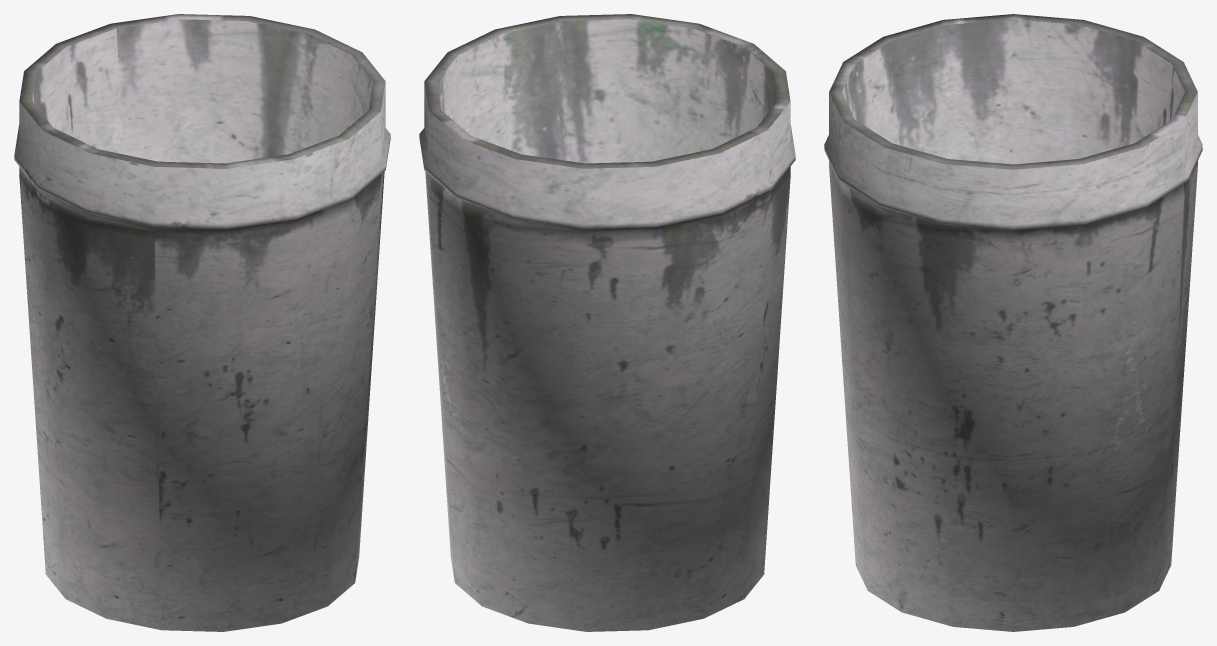
File: Trash01.fbx
The picture shows the model from 3 angles, left to right: view 1: azimuth 30°, elevation 25°; view 2: azimuth 150°, elevation 25°; view 3: azimuth 270°, elevation 25°; orthographic projection.
Visible parts, largest first — view 1: Cylinder.001; view 2: Cylinder.001; view 3: Cylinder.001.
Part boxes in pixels (left/top/right/bottom): Cylinder.001: left=14, top=14, right=390, bottom=631; Cylinder.001: left=419, top=14, right=795, bottom=631; Cylinder.001: left=824, top=14, right=1202, bottom=631.
Size of the model in its own units: 247 by 341 by 247.
